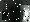person: (21, 6, 30, 22), (3, 9, 9, 20)
